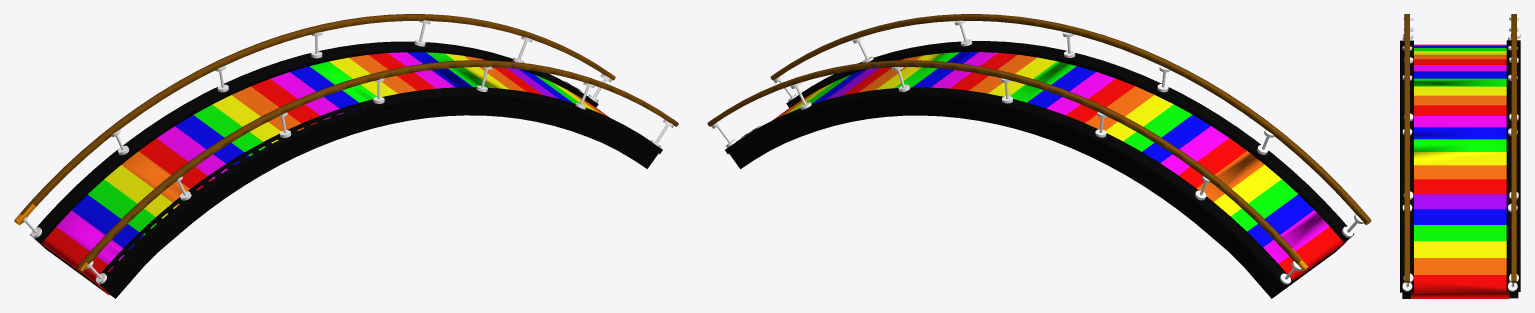
File: Rainbow Bridge Complete.fbx
The picture shows the model from 3 angles, left to right: view 1: azimuth 30°, elevation 25°; view 2: azimuth 150°, elevation 25°; view 3: azimuth 270°, elevation 25°; orthographic projection. The views are drawn at different scales.
Visible parts, largest first — view 1: Bridge3 (×2); view 2: Bridge3 (×2); view 3: Bridge3 (×2), pCylinder7, pCylinder8.
Boxes of the visible parts, <box> form: Bridge3 (×2): <box>15,14,678,298</box>; Bridge3 (×2): <box>707,14,1370,298</box>; Bridge3 (×2): <box>1400,14,1520,298</box>; pCylinder7: <box>1507,274,1518,291</box>; pCylinder8: <box>1402,273,1413,291</box>.
Bounding box in the file's own units: 2016 × 510 × 416.
